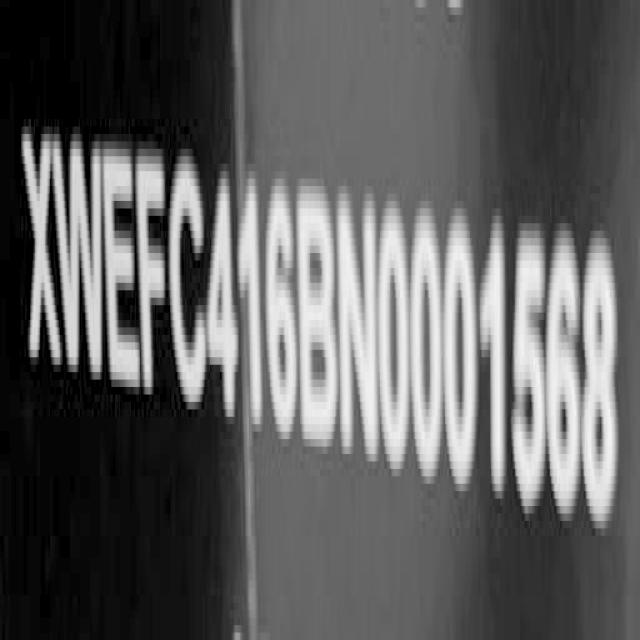0: (409, 198, 445, 510), (442, 198, 479, 491), (377, 207, 411, 493)
1: (480, 215, 510, 499), (234, 160, 263, 433)
4: (207, 176, 239, 428)
5: (509, 223, 546, 507)
6: (546, 226, 584, 513), (265, 171, 298, 441)
8: (578, 237, 620, 521)
B: (297, 193, 339, 455)
C: (166, 148, 208, 410)
E: (102, 143, 142, 400)
F: (134, 130, 166, 416)
N: (336, 184, 380, 476)
W: (53, 130, 104, 394)
X: (20, 116, 63, 402)
